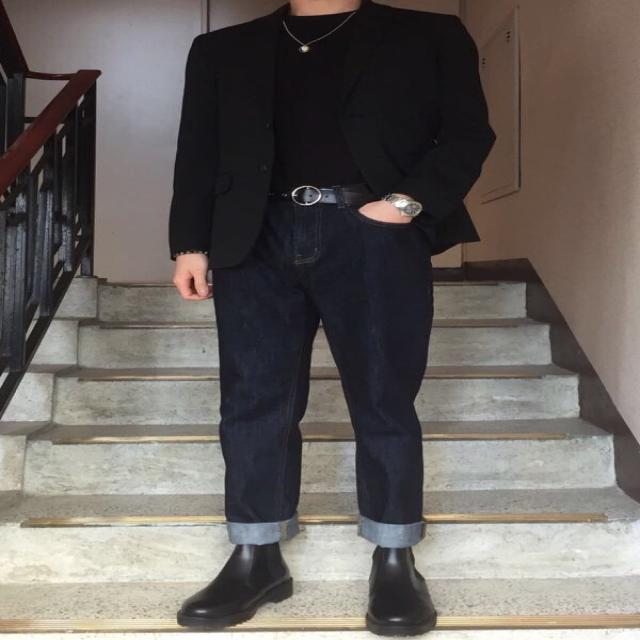blazer: (169, 0, 496, 261)
denimpants: (209, 206, 436, 548)
